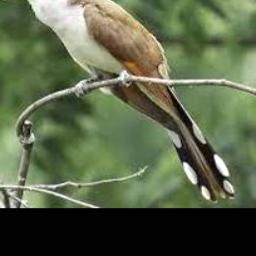Cuckoo: (5, 0, 236, 203)
